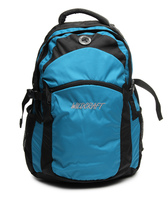bag: (15, 8, 163, 193)
